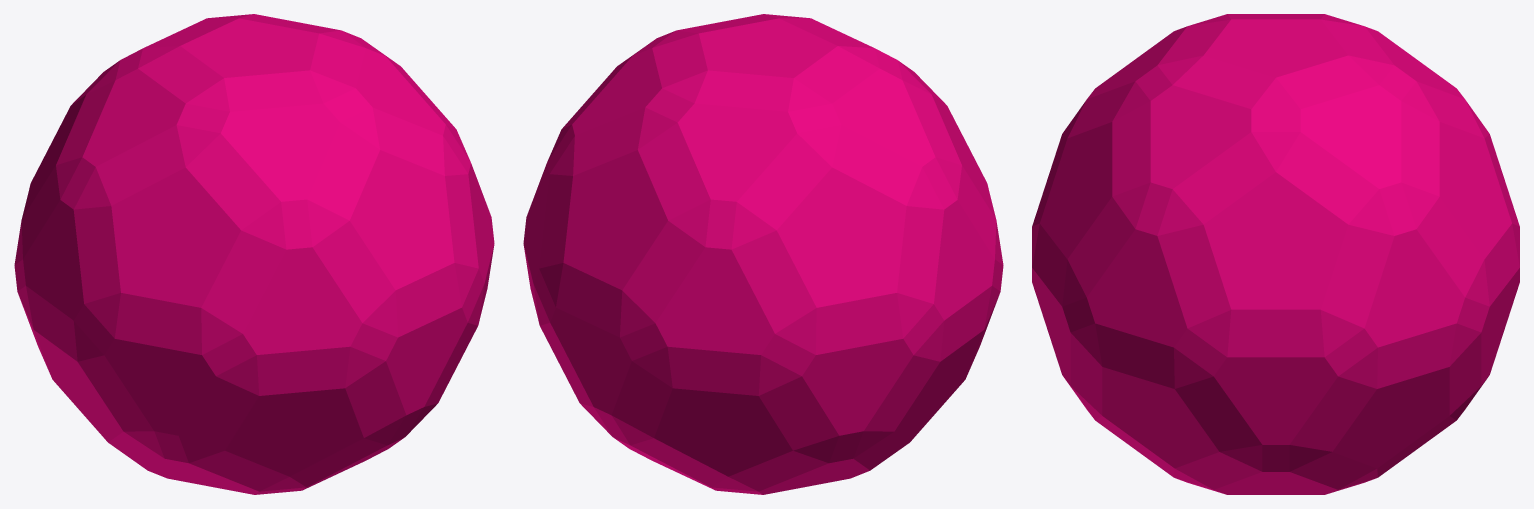
The model's file is Puntos de prestigio.fbx.
3 views of the same model, side by side, from view 1: azimuth 30°, elevation 25°; view 2: azimuth 150°, elevation 25°; view 3: azimuth 270°, elevation 25° (orthographic).
Visible parts, largest first — view 1: Icosphere; view 2: Icosphere; view 3: Icosphere.
Part boxes in pixels (<box>): Icosphere: <box>14,14,494,494</box>; Icosphere: <box>523,14,1003,494</box>; Icosphere: <box>1032,14,1519,494</box>.
Size of the model in its own units: 162 by 155 by 164.
